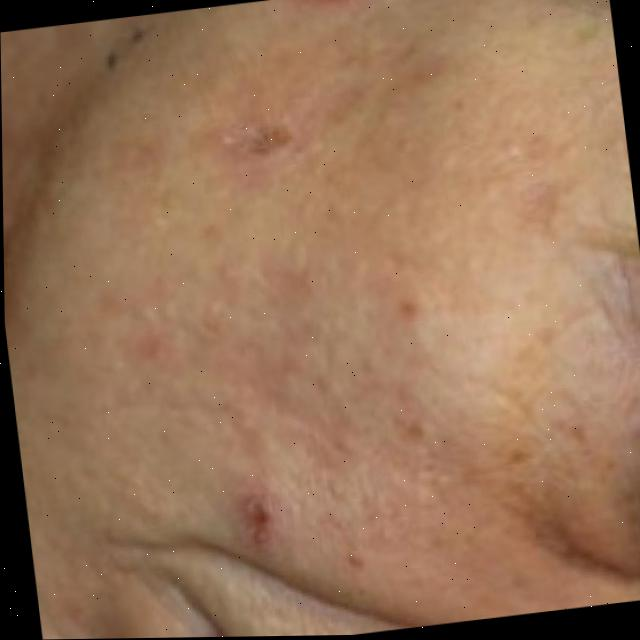Acne: (88, 0, 497, 563)
